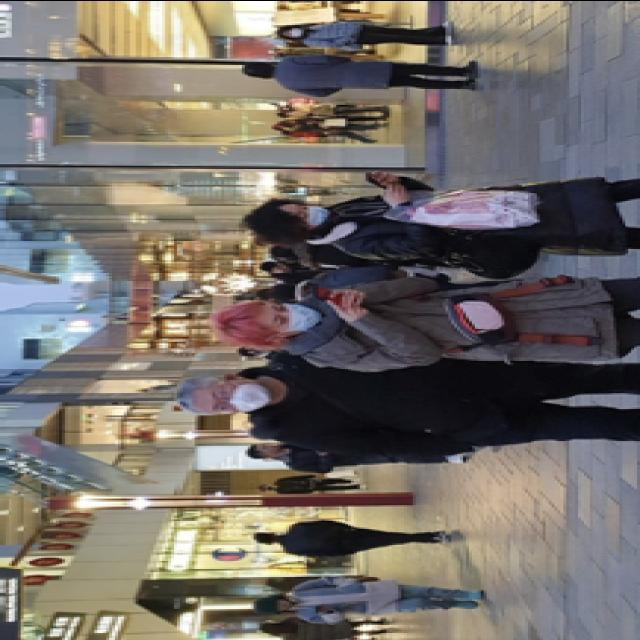with_mask: (204, 380, 268, 414), (262, 302, 318, 334), (289, 203, 327, 227), (280, 27, 298, 40), (260, 485, 268, 491)
without_mask: (268, 262, 288, 276), (254, 443, 274, 456), (268, 600, 286, 613)
